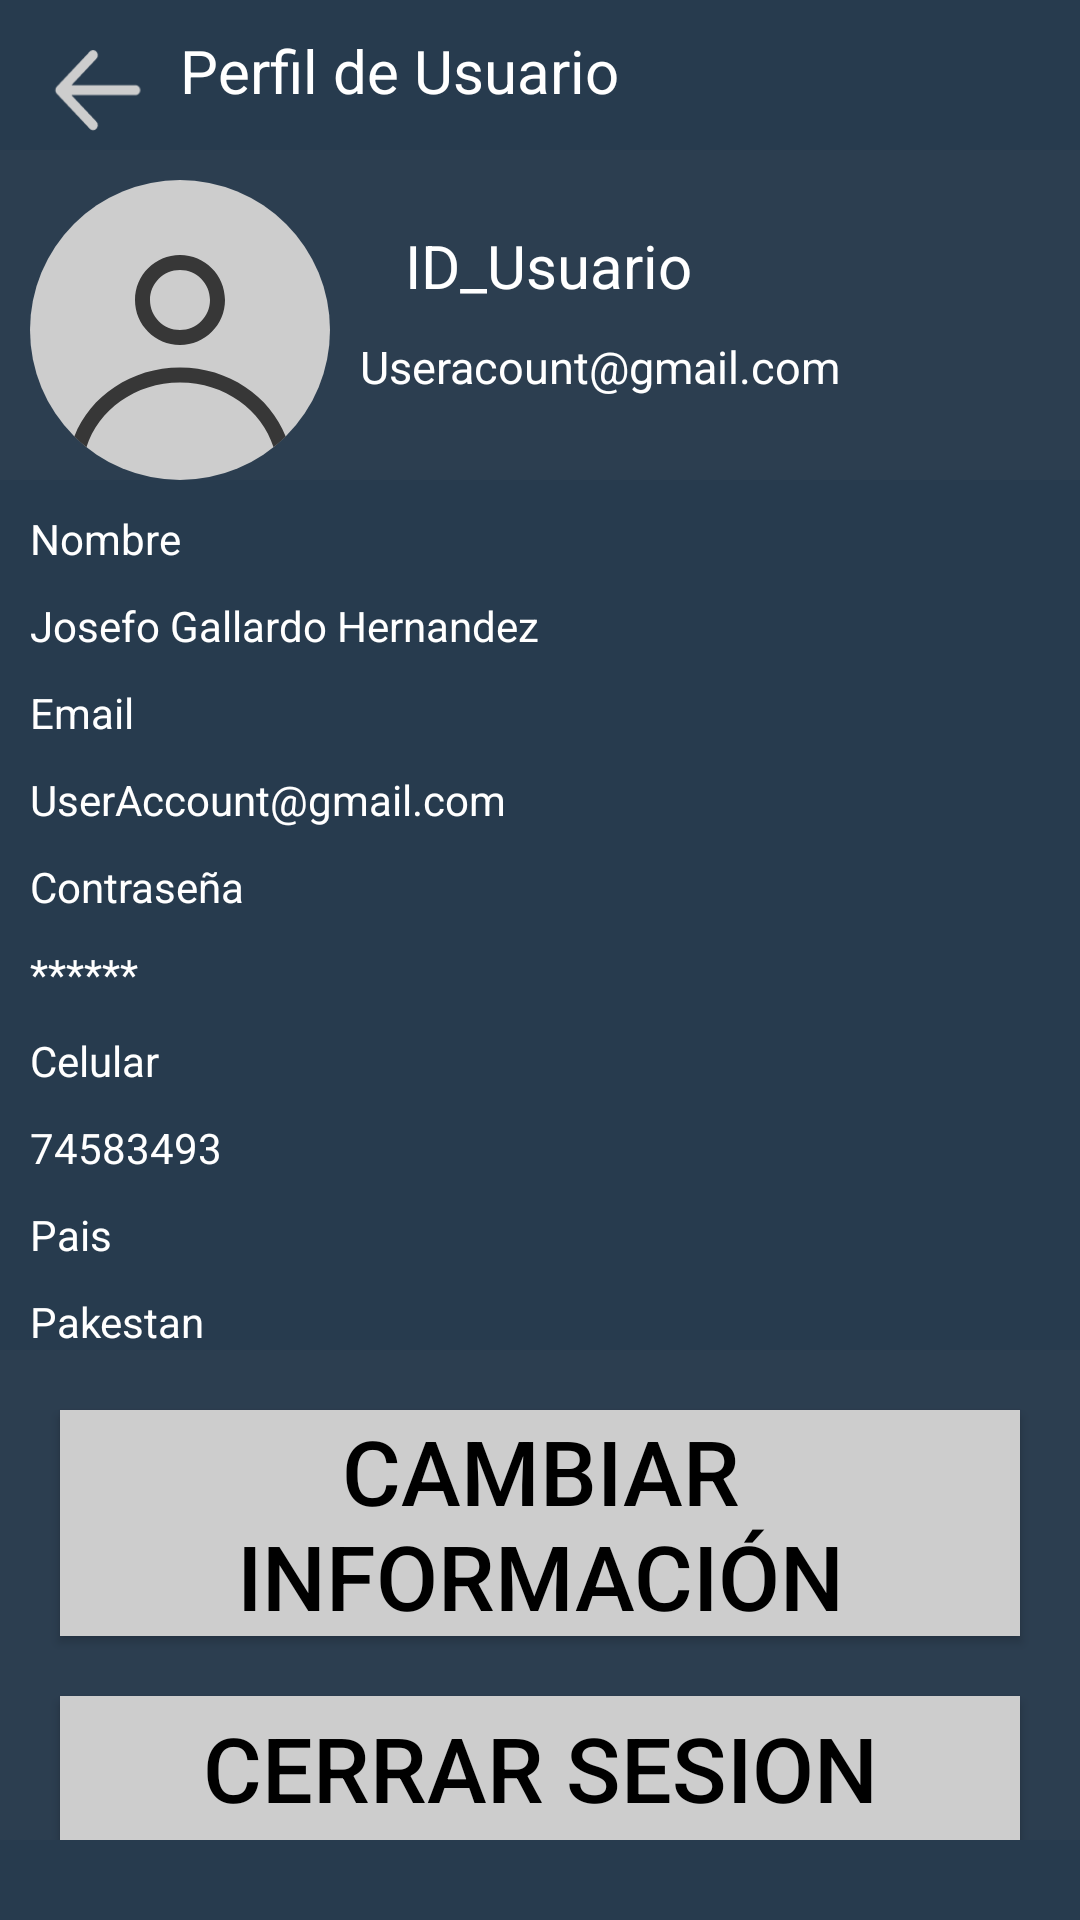

Icons on this 1080w x 1920h Android screen, each with the point to tap as (x,y):
left arrow: (98,90)
